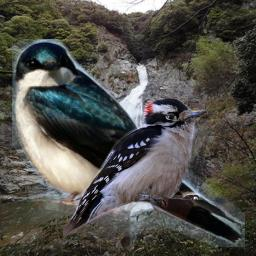Swallow: (12, 39, 245, 247)
Woodpecker: (63, 98, 208, 239)
